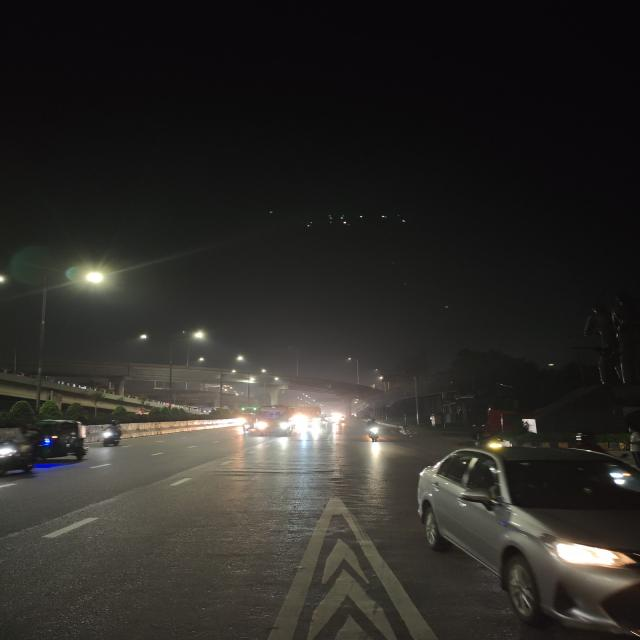bus: (252, 403, 297, 437), (298, 404, 323, 431)
car: (410, 441, 639, 639)
cng: (30, 421, 91, 464)
motorcycle: (96, 421, 130, 449), (362, 417, 387, 445)
